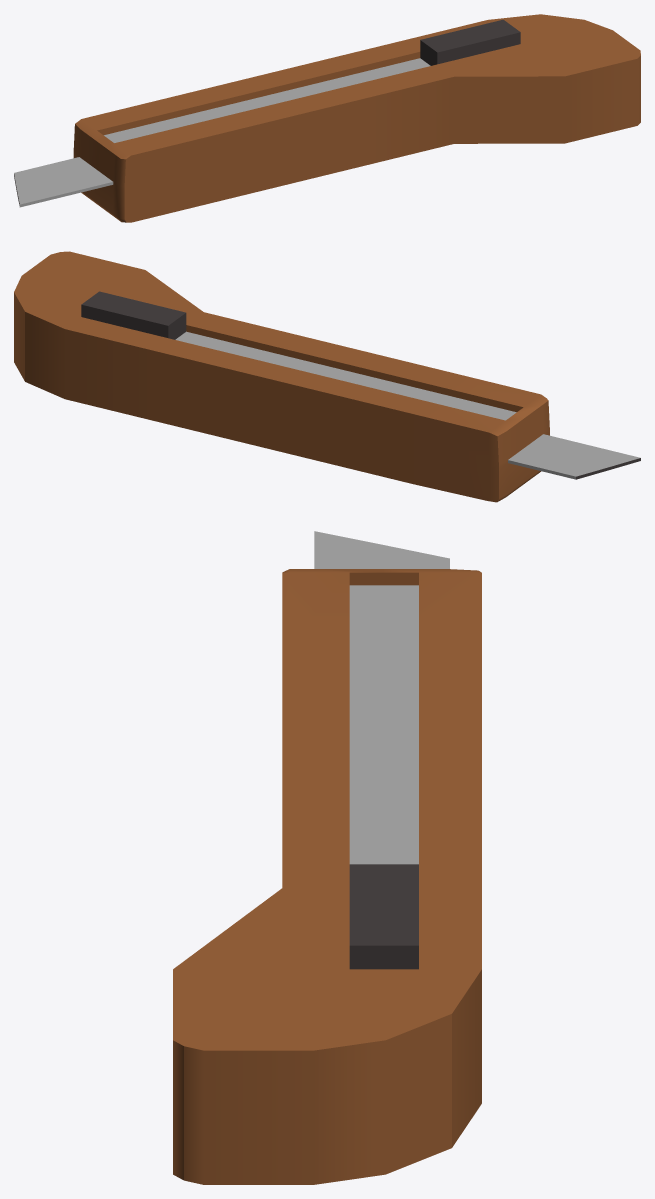
File: BoxCutter.fbx
The picture shows the model from 3 angles, top to bottom: view 1: azimuth 30°, elevation 25°; view 2: azimuth 150°, elevation 25°; view 3: azimuth 270°, elevation 25°; orthographic projection. The views are drawn at different scales.
Parts seen in each view (by area): view 1: boxCutter; view 2: boxCutter; view 3: boxCutter.
Part boxes in pixels (x1=…): boxCutter: x1=14, y1=14, x2=640, y2=222; boxCutter: x1=14, y1=251, x2=640, y2=502; boxCutter: x1=173, y1=531, x2=481, y2=1184.
Bounding box in the file's own units: 9.24 × 1.18 × 2.08.
